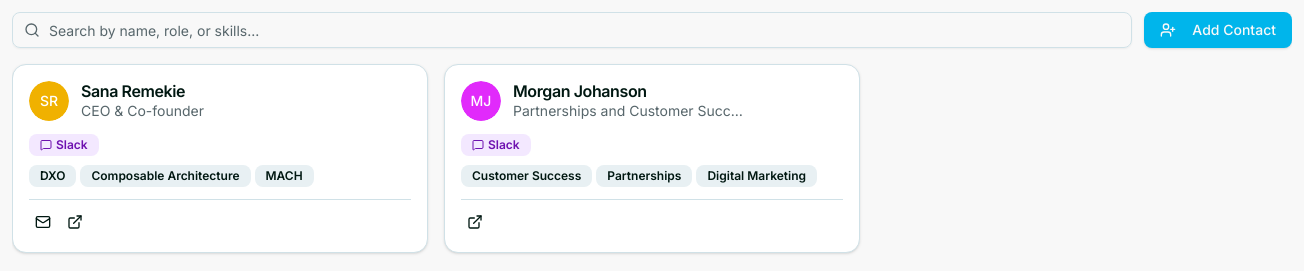
Test: Contacts Page › filters contacts by role
Type "CEO" into the field with placeholder "Search by name, role, or skills..." at (572, 30), box [12, 12, 1132, 48]
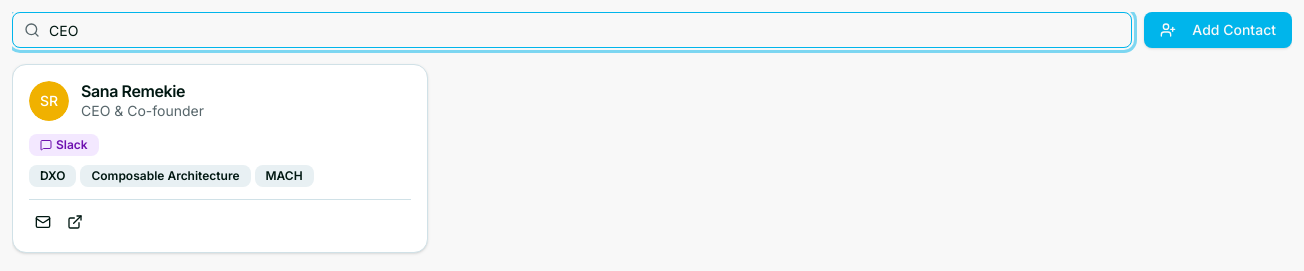
expect the heading "Sana Remekie" is shown: met, box [81, 81, 185, 101]
expect the heading "Morgan Johanson" is gone: met
